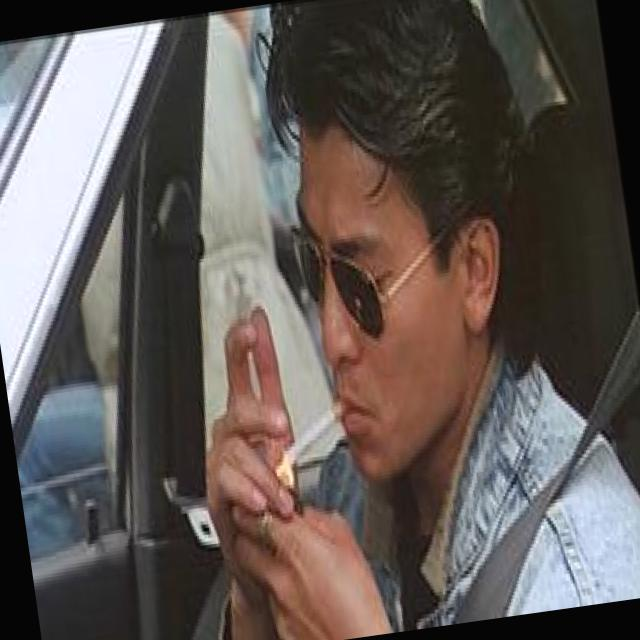cigarette: (278, 394, 348, 468)
